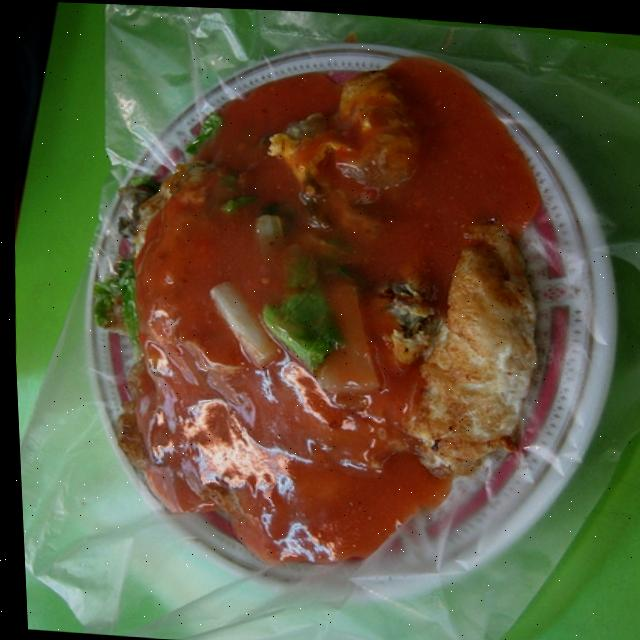熟制海鲜: (46, 11, 637, 607)
